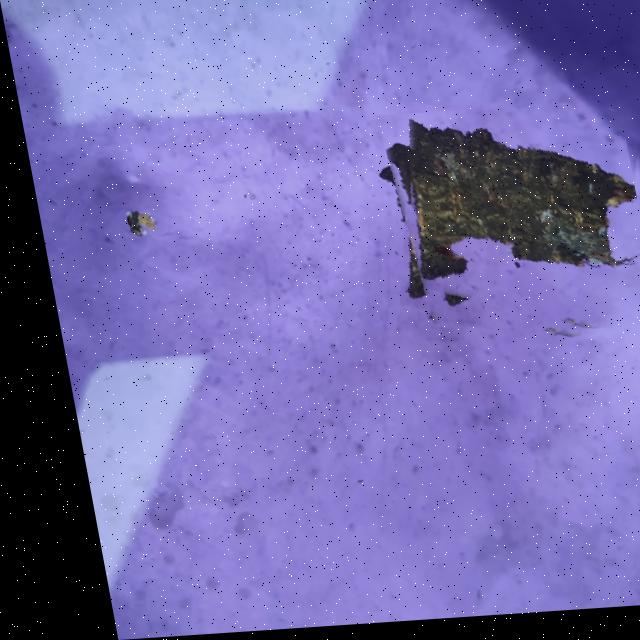litter: (369, 108, 640, 352)
